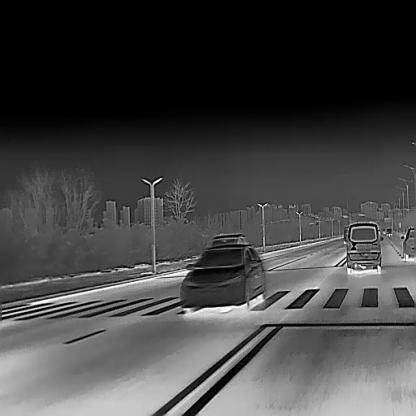car: (178, 232, 267, 309), (342, 220, 383, 275), (398, 225, 416, 260), (208, 232, 246, 248), (342, 225, 350, 243), (386, 228, 391, 236)
